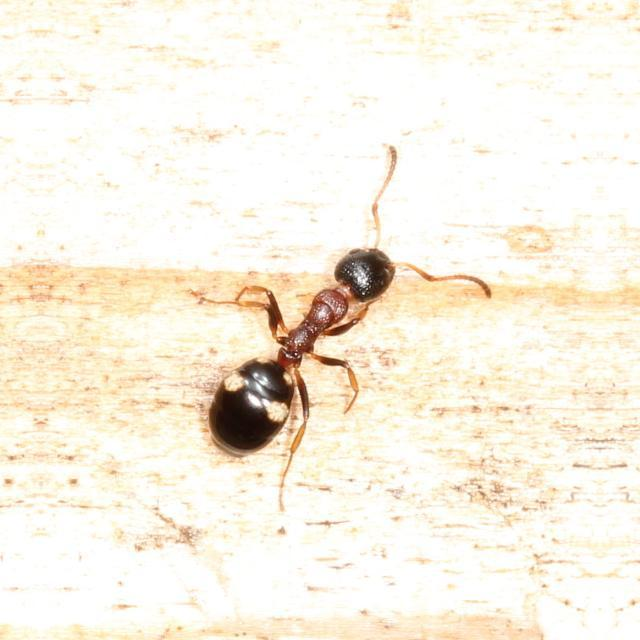Dolichoderus: (186, 195, 428, 480)
